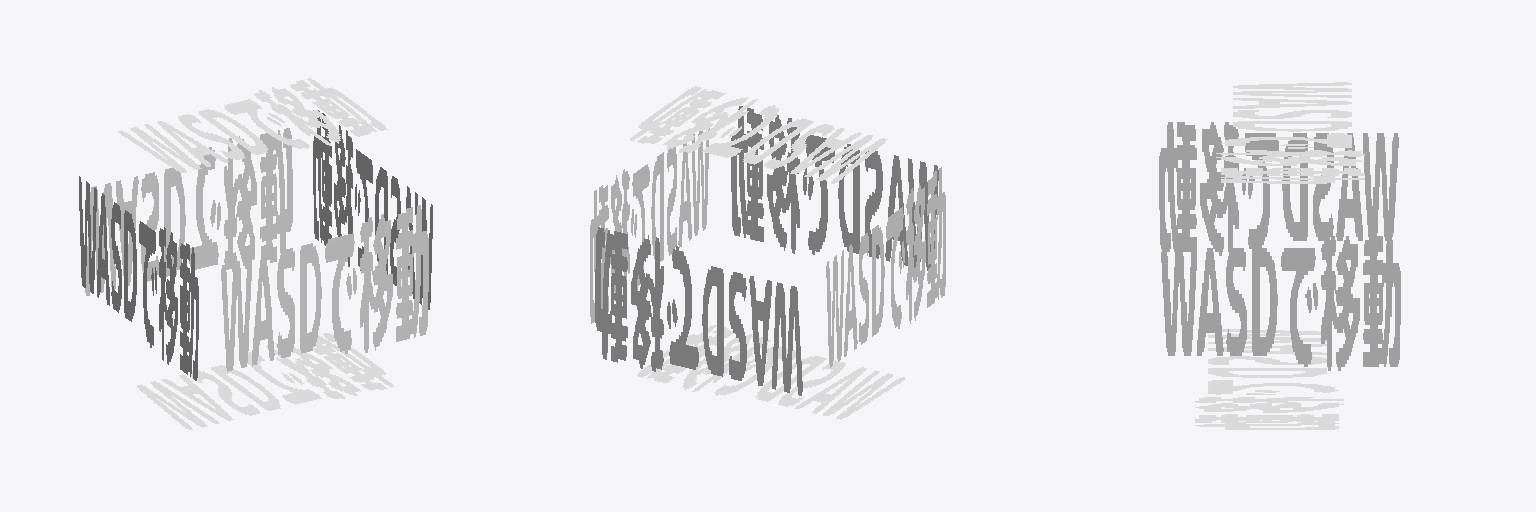
3 views of the same model, side by side, from view 1: azimuth 30°, elevation 25°; view 2: azimuth 150°, elevation 25°; view 3: azimuth 270°, elevation 25° (orthographic).
Visible parts, largest first — view 1: WASDLogo; view 2: WASDLogo; view 3: WASDLogo.
Boxes of the visible parts, x1=… form: WASDLogo: x1=79, y1=78, x2=432, y2=429; WASDLogo: x1=590, y1=86, x2=945, y2=419; WASDLogo: x1=1159, y1=82, x2=1400, y2=429.
Bounding box in the file's own units: 2 × 2 × 2.
Materials: 1 (1 with a texture image).